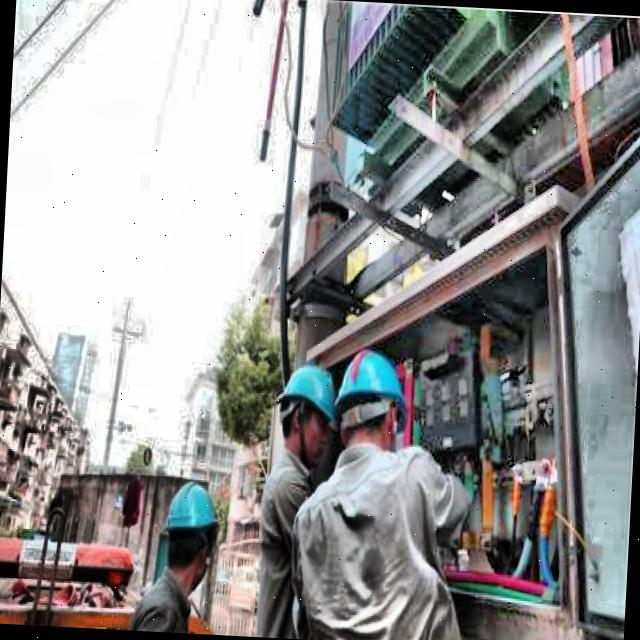helmet: (332, 343, 412, 474), (272, 355, 344, 470), (160, 474, 220, 596)
